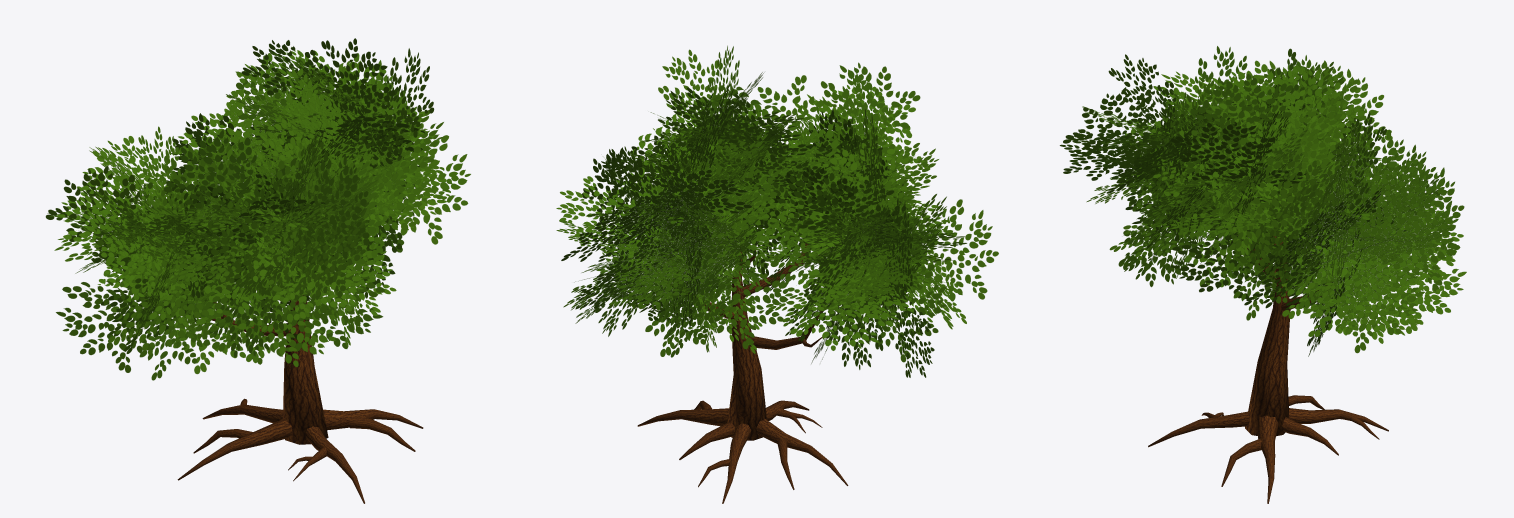
File: tree.glb
The picture shows the model from 3 angles, left to right: view 1: azimuth 30°, elevation 25°; view 2: azimuth 150°, elevation 25°; view 3: azimuth 270°, elevation 25°; orthographic projection. The views are drawn at different scales.
Visible parts, largest first — view 1: leaves.001, tree1; view 2: leaves.001, tree1; view 3: leaves.001, tree1.
Part boxes in pixels (x1,y1,x2,y2): leaves.001: (45,38,470,380); tree1: (177,295,423,503); leaves.001: (556,45,998,377); tree1: (637,243,848,503); leaves.001: (1060,46,1466,356); tree1: (1148,231,1388,503).
Size of the model in its own units: 5.96 by 5.83 by 5.93.
Materials: 2 (2 with a texture image).
